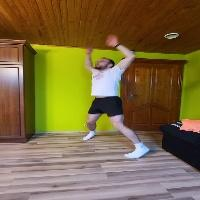jumping_jacks: (69, 27, 149, 155)
